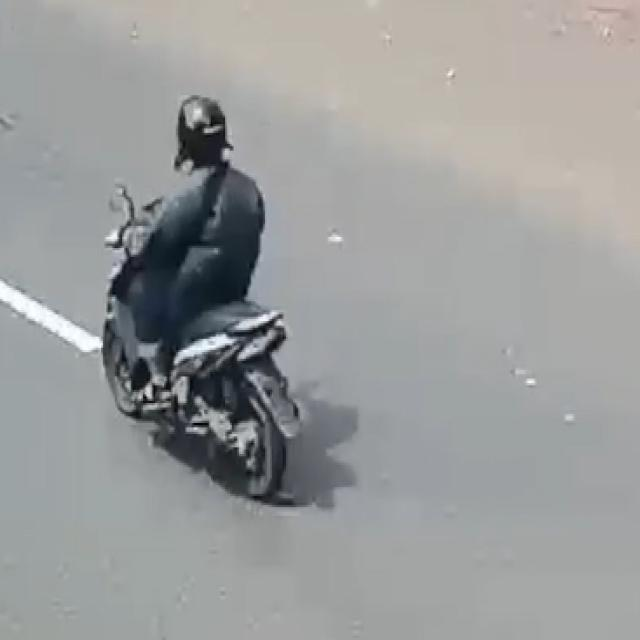helm: (175, 95, 235, 175)
motor: (104, 94, 304, 506)
spion: (112, 183, 137, 225)
